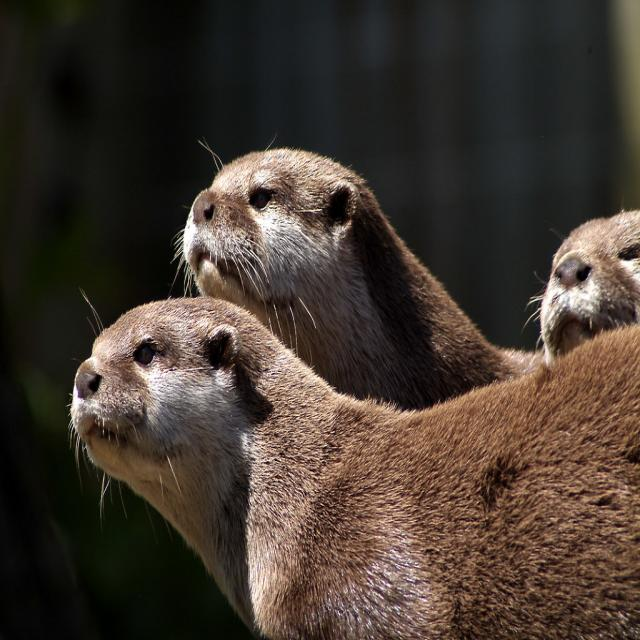otter: (72, 298, 640, 640), (184, 150, 547, 430), (540, 213, 640, 366)
